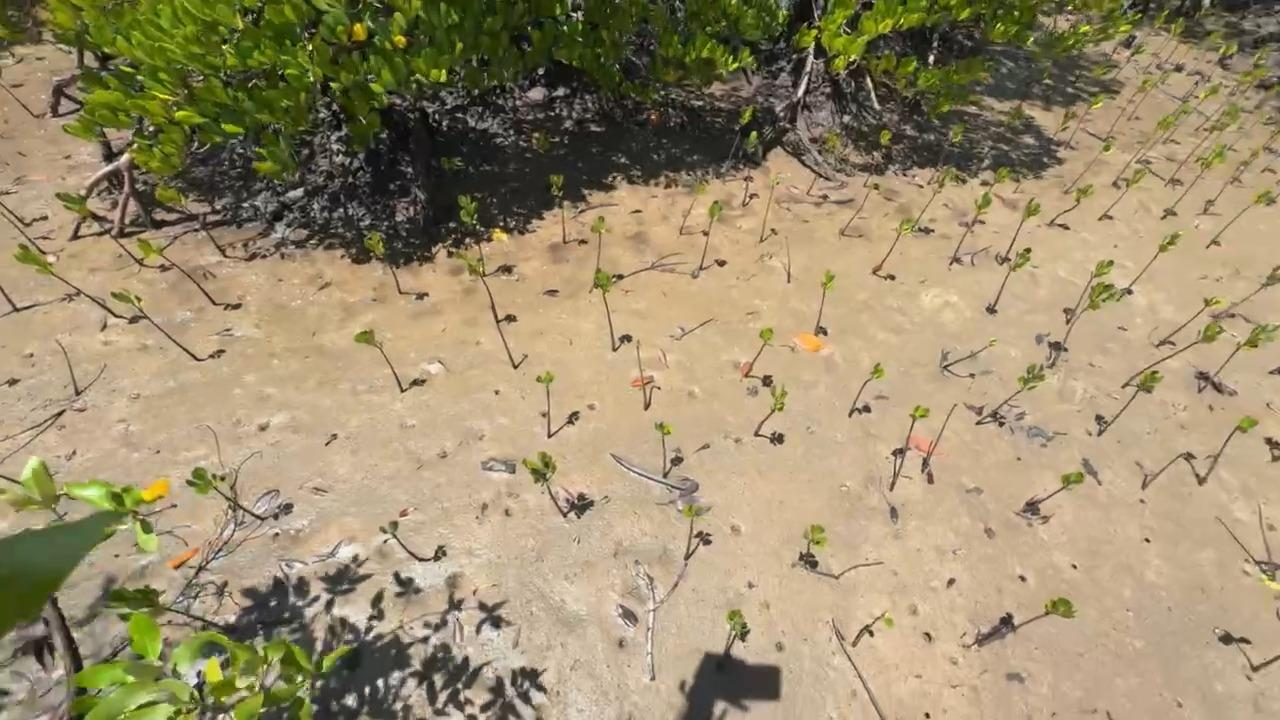Tree: (12, 243, 119, 318), (1120, 318, 1226, 389), (93, 585, 238, 635), (55, 192, 146, 267), (110, 287, 200, 362), (1164, 101, 1240, 188), (1049, 281, 1121, 369), (1198, 323, 1280, 394), (155, 180, 228, 258), (1160, 141, 1230, 221), (137, 238, 217, 306), (978, 597, 1078, 648), (1117, 230, 1185, 302), (1097, 369, 1165, 438), (1111, 114, 1176, 185), (975, 363, 1046, 426), (185, 467, 266, 521), (1199, 415, 1259, 487), (1205, 190, 1273, 250), (1162, 81, 1224, 145), (1154, 295, 1225, 348), (1180, 39, 1239, 101), (1135, 101, 1193, 164), (889, 404, 930, 493), (1103, 75, 1157, 142), (1213, 264, 1280, 317), (1163, 0, 1217, 65), (453, 247, 499, 322), (353, 329, 404, 394), (948, 192, 992, 266), (1065, 259, 1114, 325), (1063, 136, 1116, 195), (522, 451, 567, 519), (911, 167, 958, 229), (1193, 107, 1243, 164), (1000, 196, 1041, 265), (1098, 167, 1149, 221), (1018, 472, 1085, 513), (984, 101, 1030, 159), (925, 122, 966, 186), (990, 250, 1030, 315), (1142, 16, 1186, 75), (1226, 43, 1274, 97), (921, 404, 958, 474), (1125, 67, 1172, 122), (1201, 159, 1247, 215), (363, 230, 402, 295), (1064, 90, 1106, 150), (873, 217, 916, 274), (722, 105, 753, 184), (805, 129, 842, 195), (457, 194, 486, 277), (1173, 18, 1219, 70), (1194, 83, 1242, 132), (1236, 80, 1280, 133), (1141, 450, 1197, 491), (0, 212, 48, 255), (848, 363, 885, 418), (1049, 183, 1094, 227), (842, 183, 880, 235), (593, 271, 617, 352), (753, 383, 788, 437), (378, 520, 422, 562), (1228, 111, 1274, 151), (863, 130, 894, 187), (699, 200, 723, 271), (490, 307, 517, 369), (1257, 503, 1278, 582), (682, 503, 710, 561), (852, 611, 895, 648), (679, 182, 709, 235), (590, 215, 611, 290), (943, 339, 997, 368), (814, 269, 837, 337), (759, 173, 781, 243), (741, 131, 761, 208), (1047, 105, 1079, 152), (744, 327, 774, 377), (723, 608, 750, 662), (0, 81, 39, 118), (54, 339, 79, 396), (1109, 42, 1147, 79), (550, 172, 568, 245), (536, 370, 555, 439), (1230, 147, 1261, 185), (803, 523, 828, 570), (654, 420, 673, 479), (1141, 8, 1169, 44), (635, 340, 649, 411), (836, 561, 884, 579), (0, 201, 30, 228), (987, 166, 1015, 194), (0, 285, 21, 313), (1252, 655, 1280, 673), (1260, 154, 1280, 173), (1261, 128, 1280, 146), (1261, 134, 1280, 152), (1154, 34, 1170, 54), (0, 40, 16, 59), (785, 237, 791, 283), (1241, 79, 1254, 98), (0, 475, 22, 486), (1266, 194, 1280, 206)
